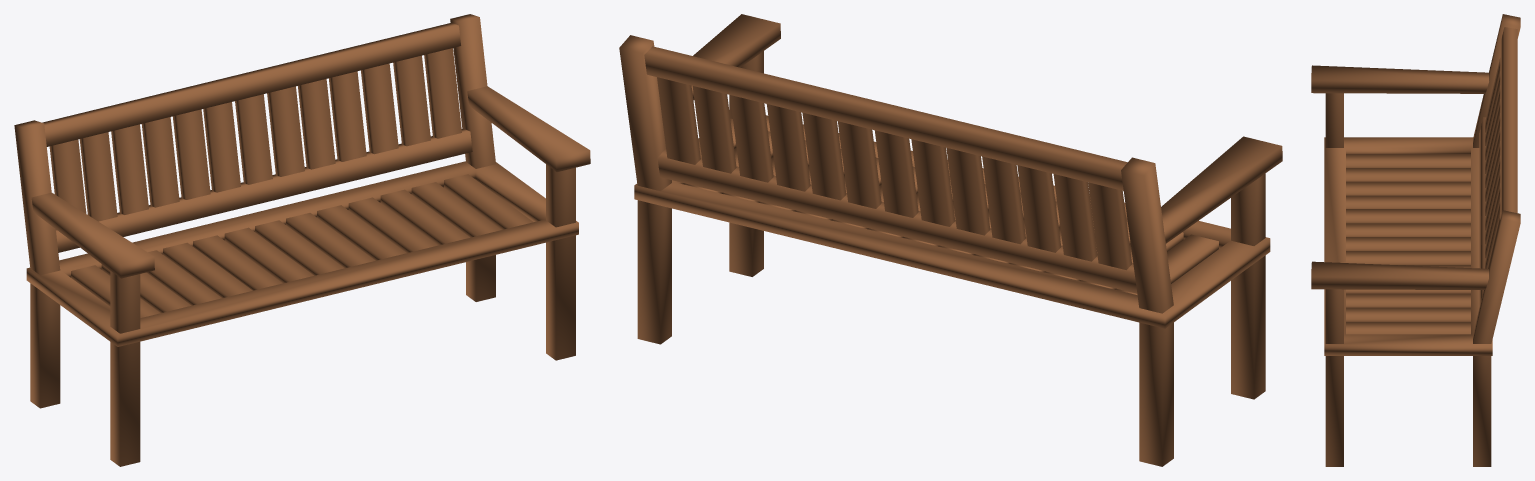
Rendered from park-chair-stage.glb.
3 views of the same model, side by side, from view 1: azimuth 30°, elevation 25°; view 2: azimuth 150°, elevation 25°; view 3: azimuth 270°, elevation 25° (orthographic). The views are drawn at different scales.
Visible parts, largest first — view 1: ParkChair1; view 2: ParkChair1; view 3: ParkChair1.
Part boxes in pixels (x1,y1,x2,y2): ParkChair1: [14, 14, 590, 466]; ParkChair1: [619, 14, 1282, 466]; ParkChair1: [1311, 14, 1520, 466].
Size of the model in its own units: 1.32 by 0.7193 by 0.5514.
